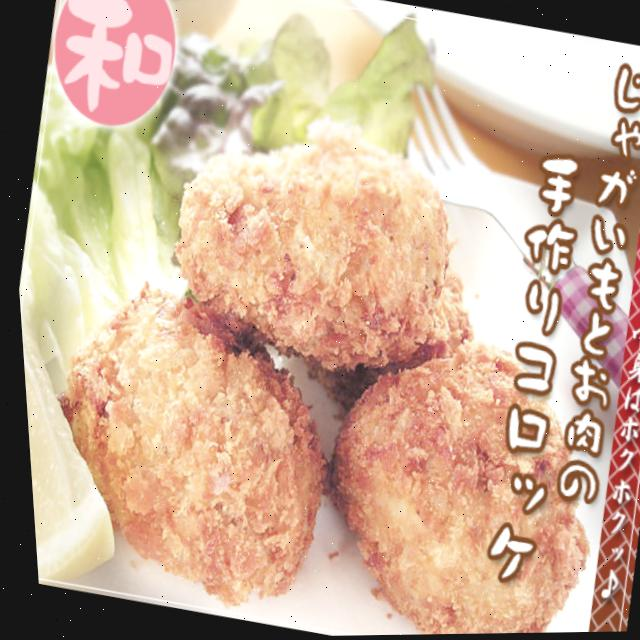炸货点心: (140, 99, 488, 398)
